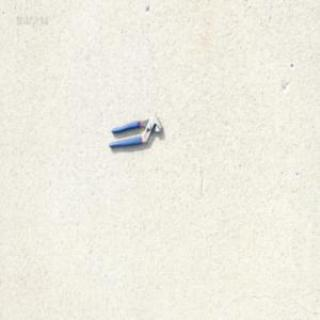Pliertrack_idkeyframe: (108, 114, 163, 150)
